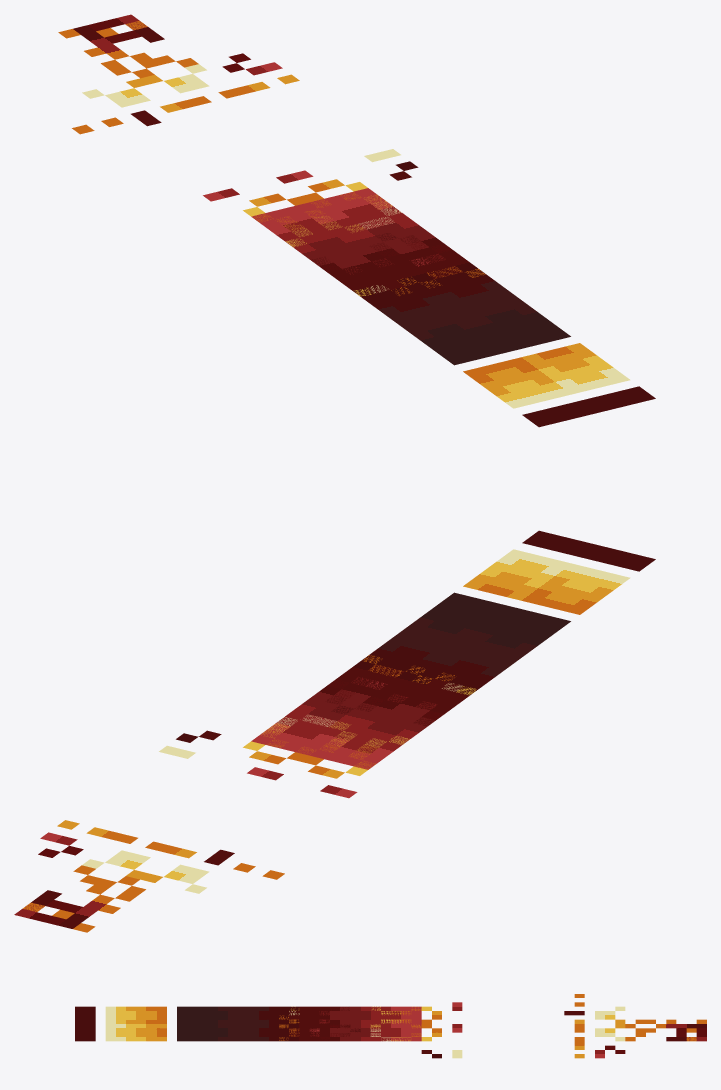
Rendered from altar_void2.obj.
3 views of the same model, one above another, from view 1: azimuth 30°, elevation 25°; view 2: azimuth 150°, elevation 25°; view 3: azimuth 270°, elevation 25° (orthographic). The views are drawn at different scales.
Size of the model in its own units: 0.375 by 0 by 1.06.
